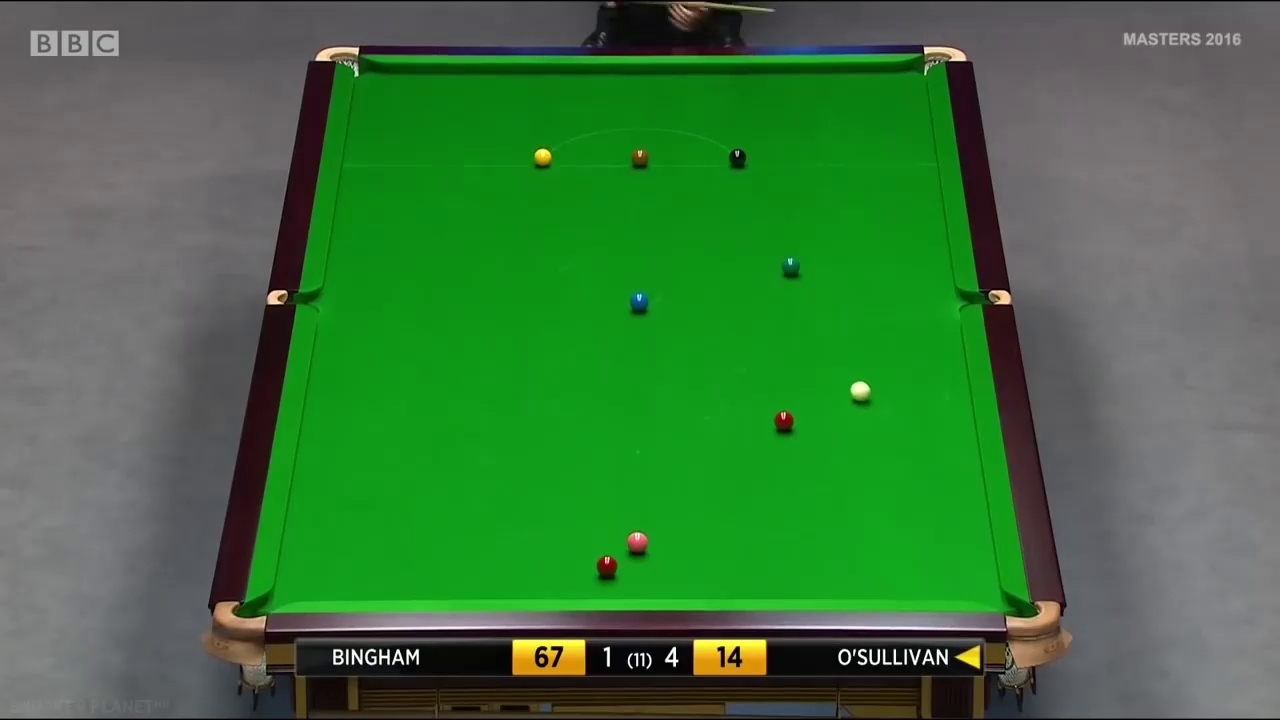ball: (594, 555, 618, 579), (626, 530, 649, 555), (779, 256, 801, 278), (773, 409, 793, 433), (850, 381, 870, 404), (627, 293, 649, 313), (532, 147, 554, 166), (729, 149, 747, 167), (630, 149, 649, 166)
